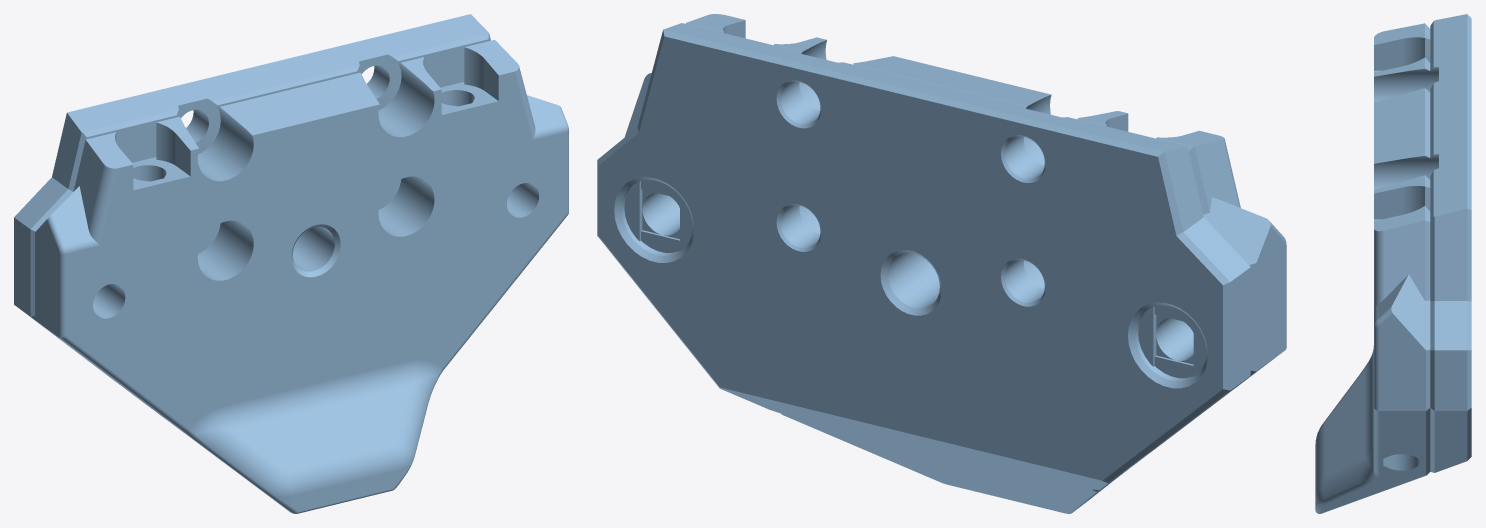
File: A4T - LGX-L_VZHex Adapter [cw2-tap].gltf
The picture shows the model from 3 angles, left to right: view 1: azimuth 30°, elevation 25°; view 2: azimuth 150°, elevation 25°; view 3: azimuth 270°, elevation 25°; orthographic projection. The views are drawn at different scales.
Parts seen in each view (by area): view 1: A4T - LGX-L_VZHex Adapter [cw2-tap]; view 2: A4T - LGX-L_VZHex Adapter [cw2-tap]; view 3: A4T - LGX-L_VZHex Adapter [cw2-tap].
Boxes of the visible parts, box(x1,y1,x2,y2) form: A4T - LGX-L_VZHex Adapter [cw2-tap]: box(14, 14, 568, 513); A4T - LGX-L_VZHex Adapter [cw2-tap]: box(597, 14, 1286, 513); A4T - LGX-L_VZHex Adapter [cw2-tap]: box(1315, 14, 1471, 513).
Size of the model in its own units: 0.0536 by 0.0385 by 0.0144.
